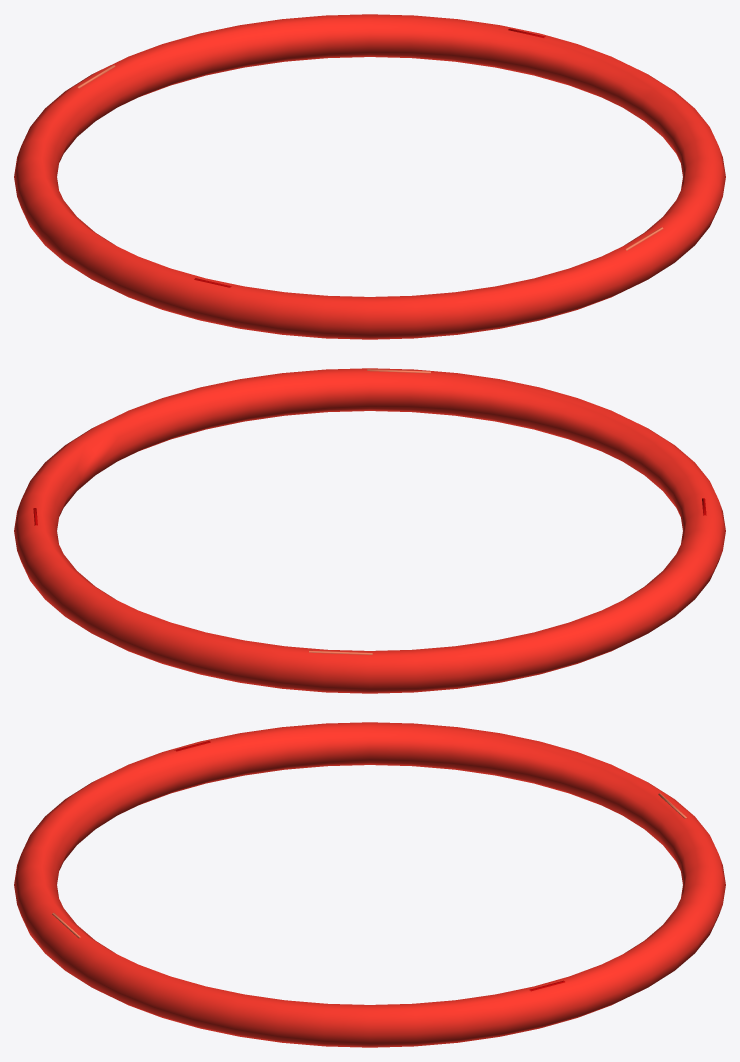
The model's file is Reifen_3D.glb.
The picture shows the model from 3 angles, top to bottom: view 1: azimuth 30°, elevation 25°; view 2: azimuth 150°, elevation 25°; view 3: azimuth 270°, elevation 25°; orthographic projection.
Visible parts, largest first — view 1: Reifen_3D__web_glossy_red_gymnastics_hoop_tube; view 2: Reifen_3D__web_glossy_red_gymnastics_hoop_tube; view 3: Reifen_3D__web_glossy_red_gymnastics_hoop_tube.
Part boxes in pixels (left/top/right/bottom): Reifen_3D__web_glossy_red_gymnastics_hoop_tube: left=14, top=14, right=725, bottom=339; Reifen_3D__web_glossy_red_gymnastics_hoop_tube: left=14, top=368, right=725, bottom=693; Reifen_3D__web_glossy_red_gymnastics_hoop_tube: left=14, top=722, right=725, bottom=1047.
Size of the model in its own units: 1.22 by 0.0724 by 1.22.
